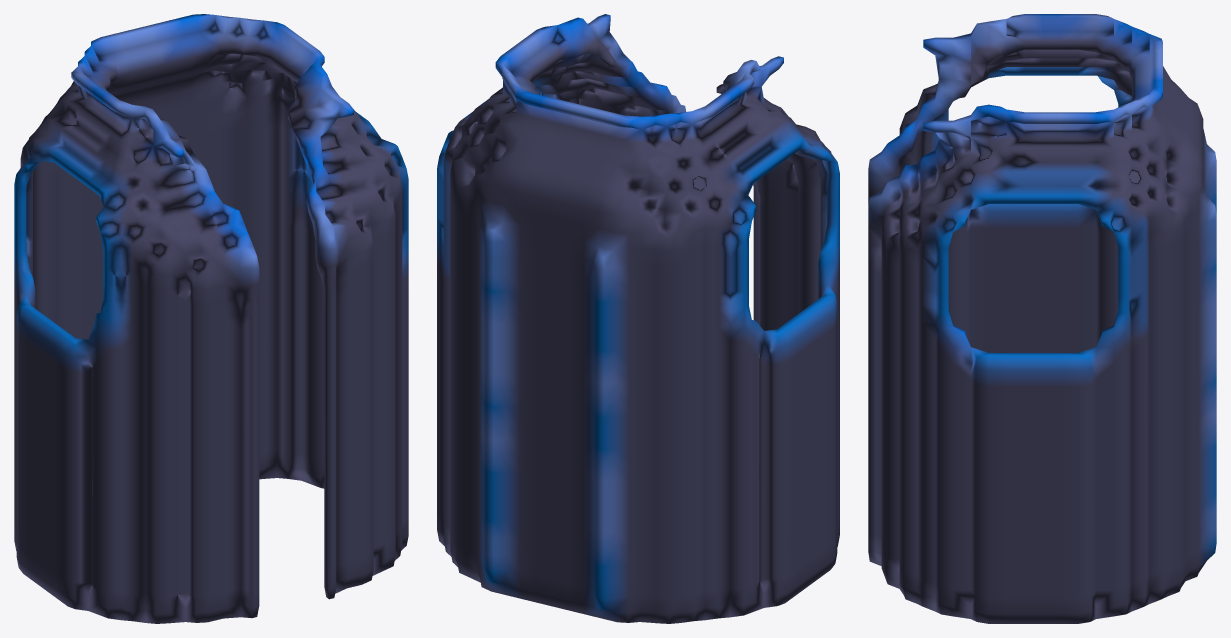
The picture shows the model from 3 angles, left to right: view 1: azimuth 30°, elevation 25°; view 2: azimuth 150°, elevation 25°; view 3: azimuth 270°, elevation 25°; orthographic projection. The views are drawn at different scales.
Bounding box in the file's own units: 1.1 × 1.49 × 0.975.
